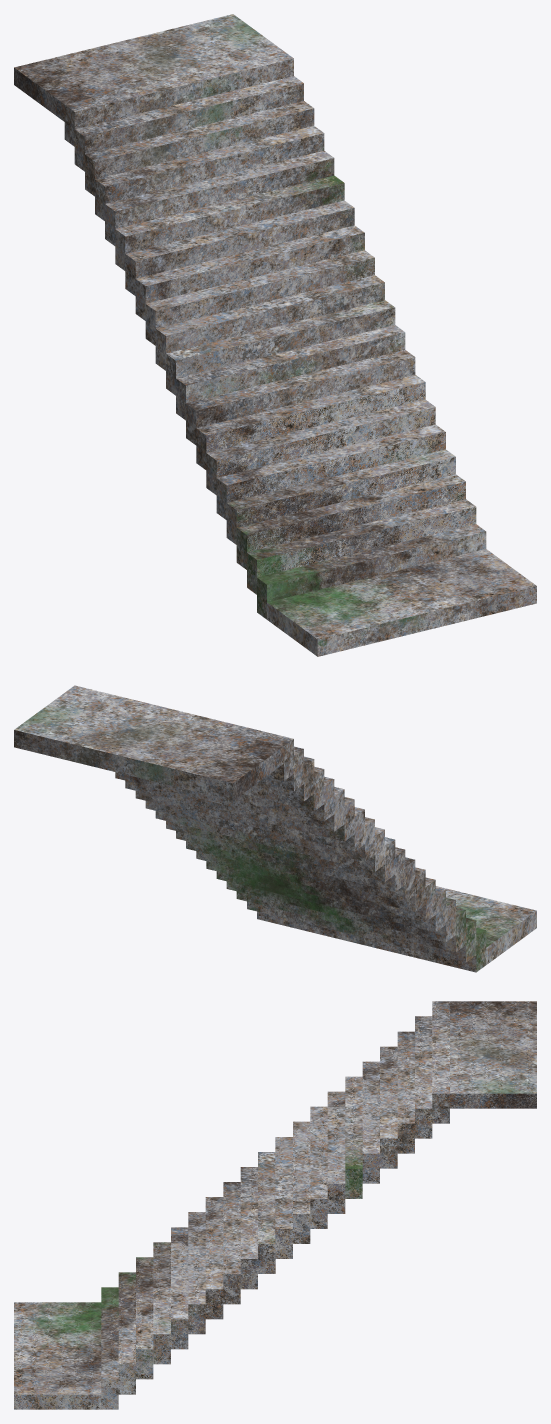
3 views of the same model, one above another, from view 1: azimuth 30°, elevation 25°; view 2: azimuth 150°, elevation 25°; view 3: azimuth 270°, elevation 25° (orthographic). The views are drawn at different scales.
Visible parts, largest first — view 1: 계단2; view 2: 계단2; view 3: 계단2.
Part boxes in pixels (left/top/right/bottom): 계단2: left=14, top=14, right=536, bottom=656; 계단2: left=14, top=685, right=536, bottom=972; 계단2: left=14, top=1001, right=536, bottom=1409.
Size of the model in its own units: 250 by 400 by 600.
